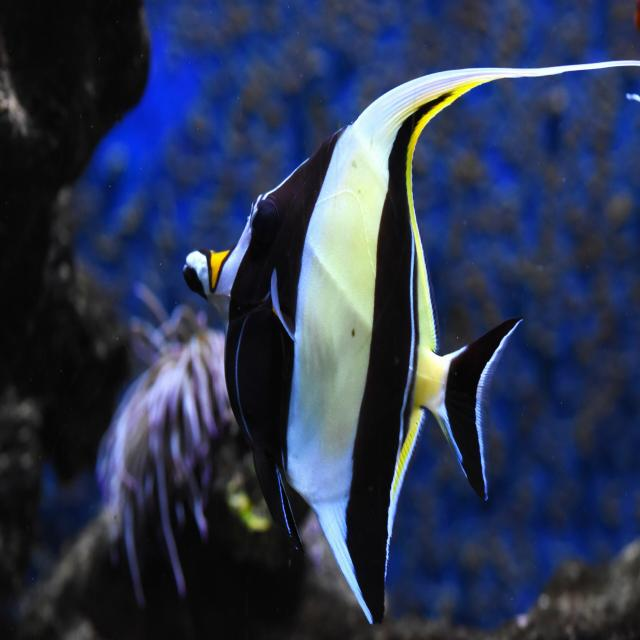MorishIdol: (178, 58, 638, 627)
